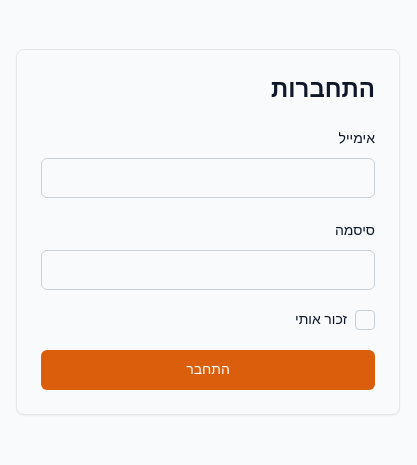
Test: S01 Login › shows a generic error for wrong credentials
Type "admin@dev.local" into the field labelled "אימייל" at (208, 178), box [41,158,375,198]
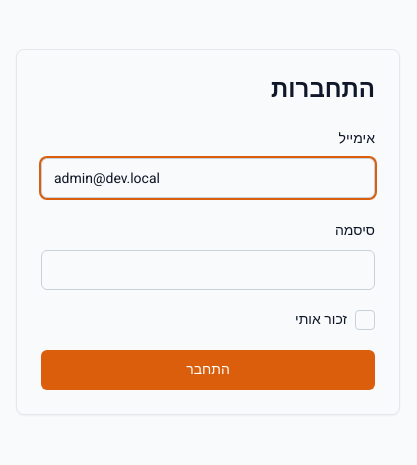
Type "WrongPass1" into the password field labelled "סיסמה" at (208, 270), box [41,250,375,290]
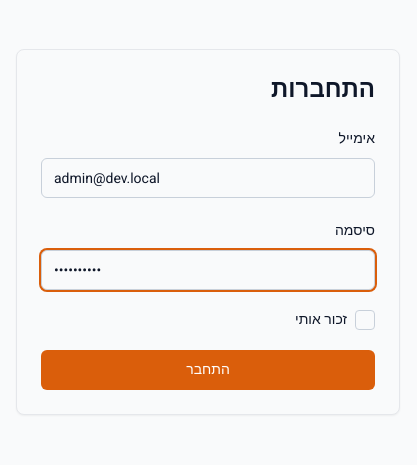
Click the button "התחבר" at (208, 370), box [41,350,375,390]
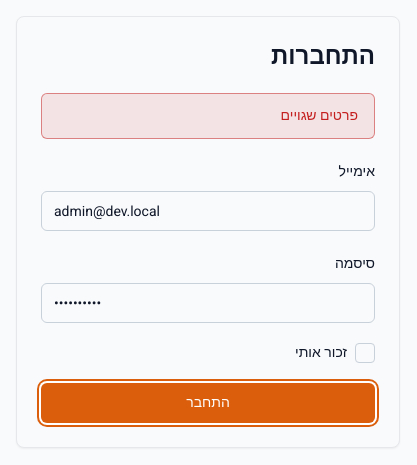
Now the message reads "פרטים שגויים", box [280,105,358,126]
